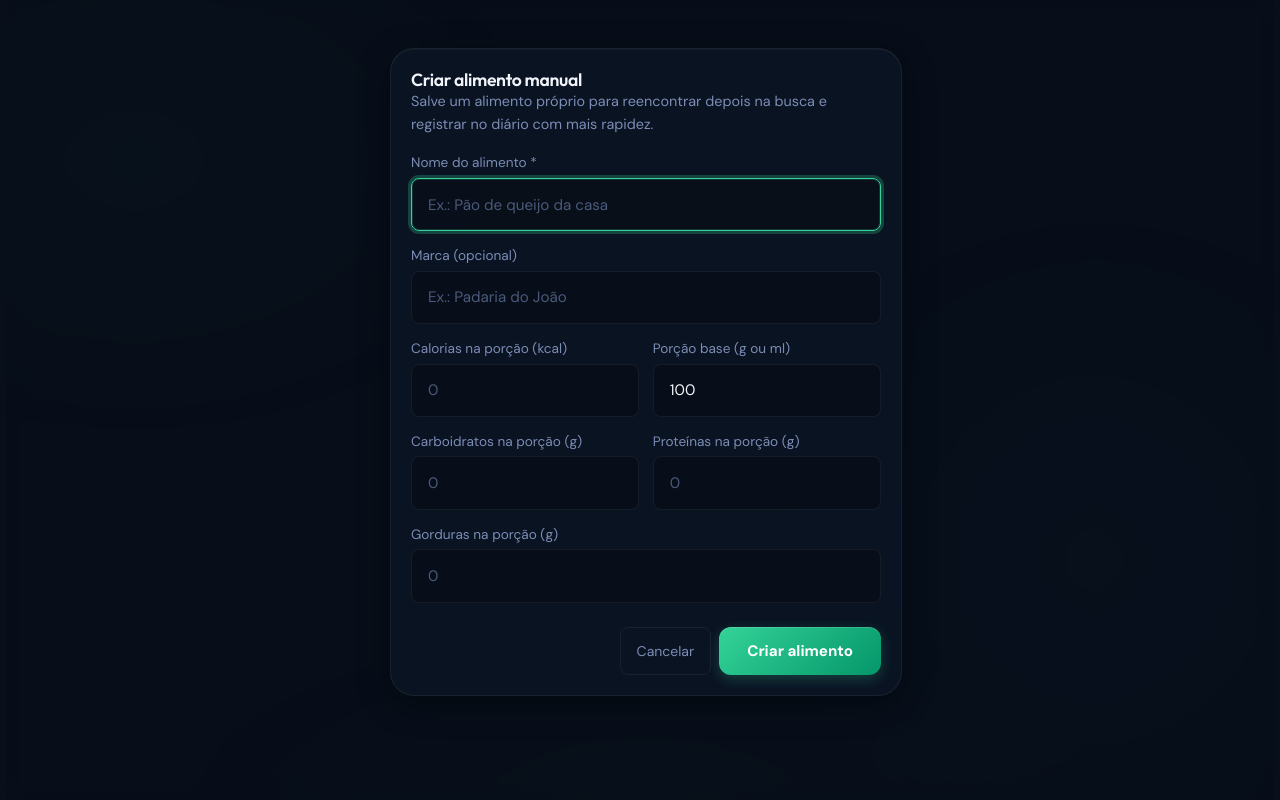
Scenario: CustomFoodDialog › shows the auth-aware error message when the request is rejected
In the field labelled "Nome do alimento *": (646, 205) [411,178,881,232], type "File de Tilapia Grelhado"
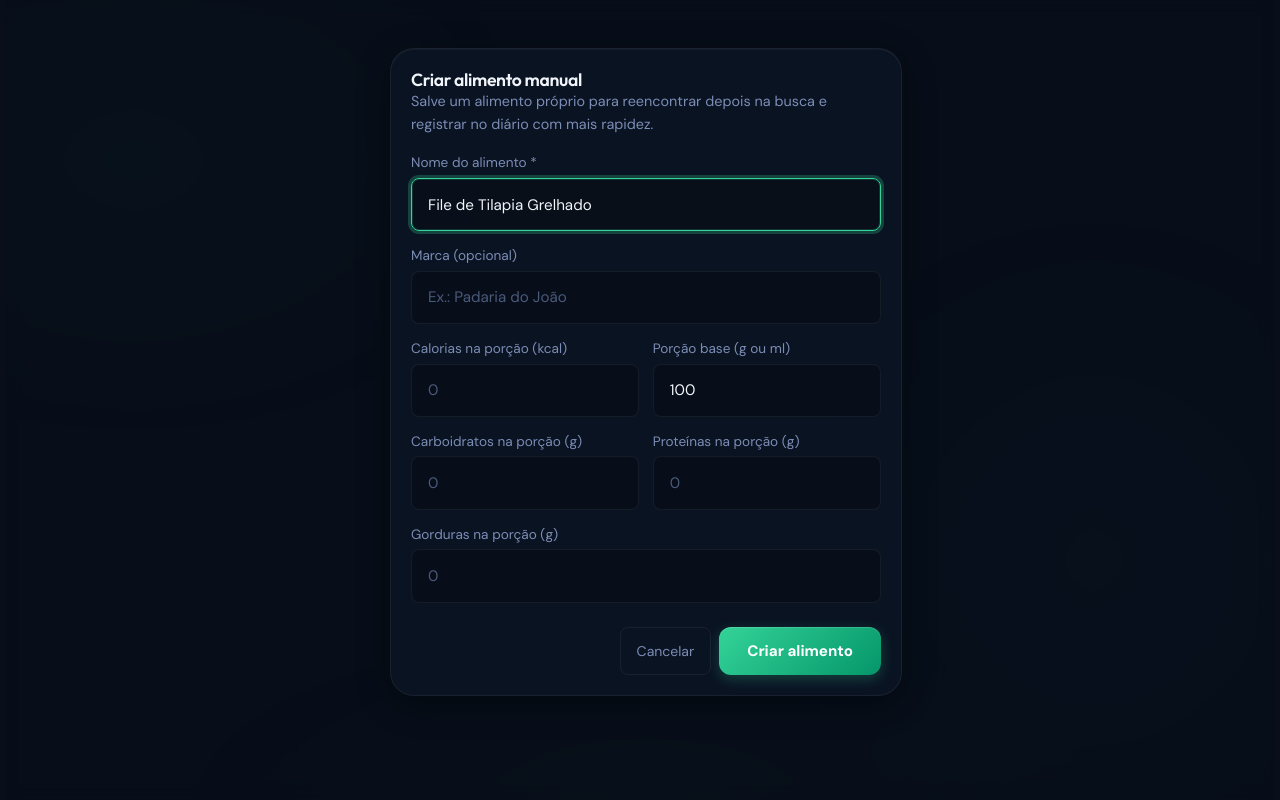
Click the button "Criar alimento": (800, 651) [719,627,881,675]
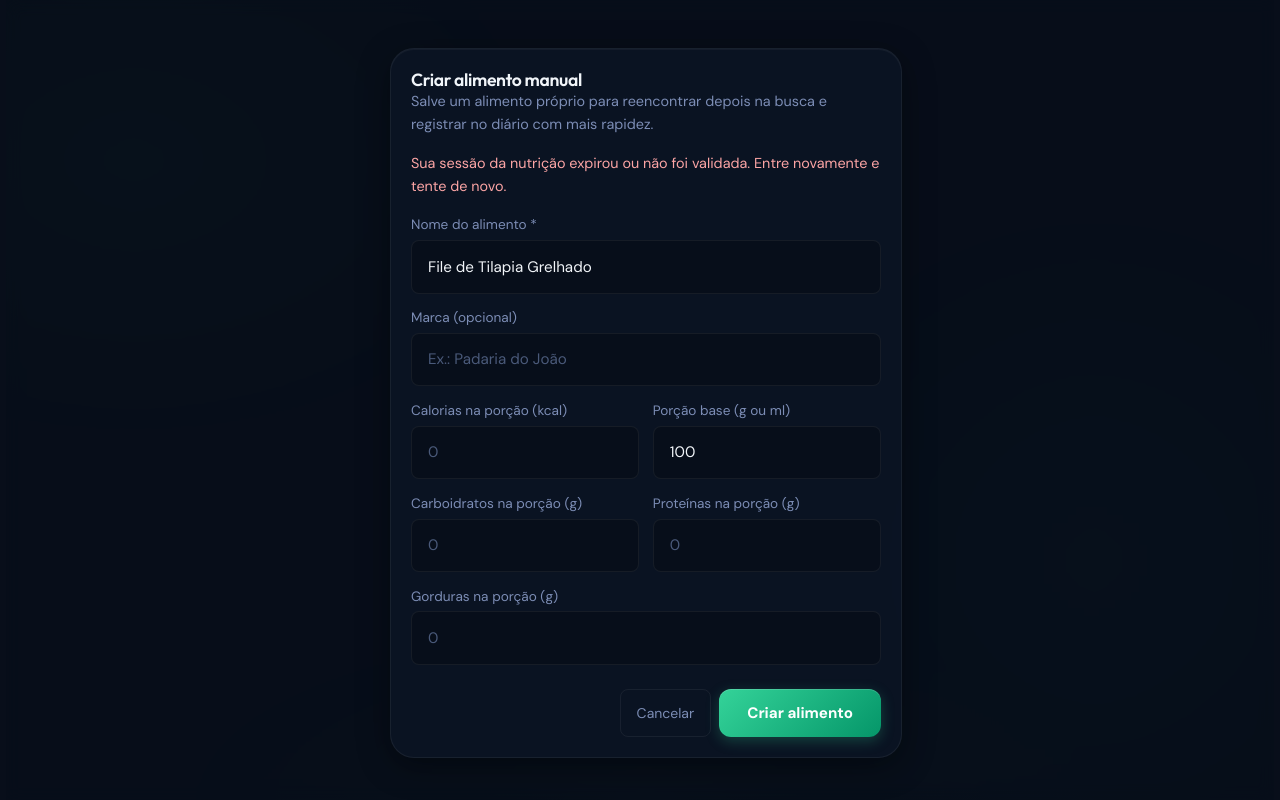
Now the text "Sua sessão da nutrição expirou ou não foi validada" is shown, box [411,154,879,195]
